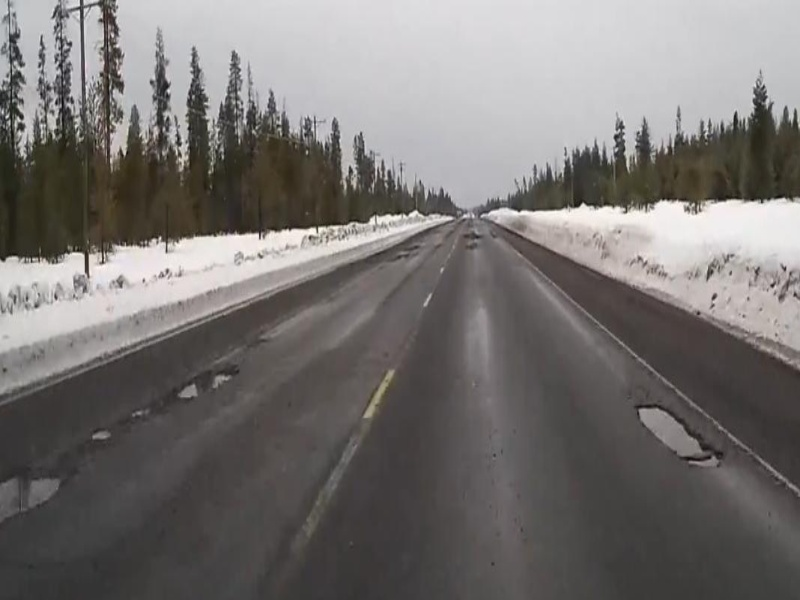pothole: (631, 395, 722, 473), (1, 467, 66, 523), (174, 364, 240, 403)
